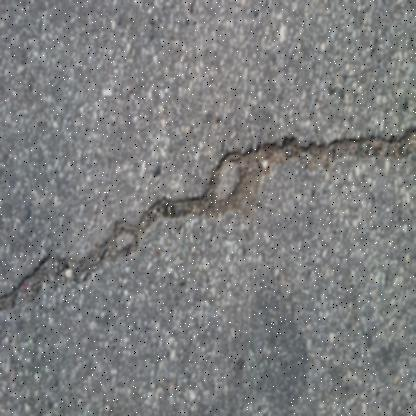Cracks: (0, 116, 415, 320)
